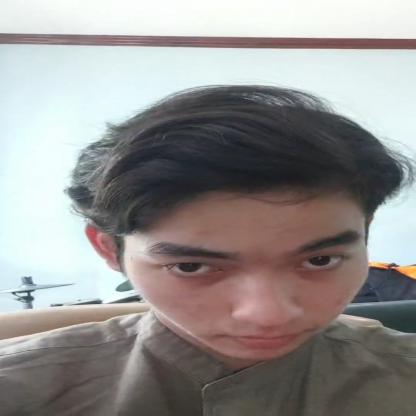Palm: (36, 71, 415, 376)
